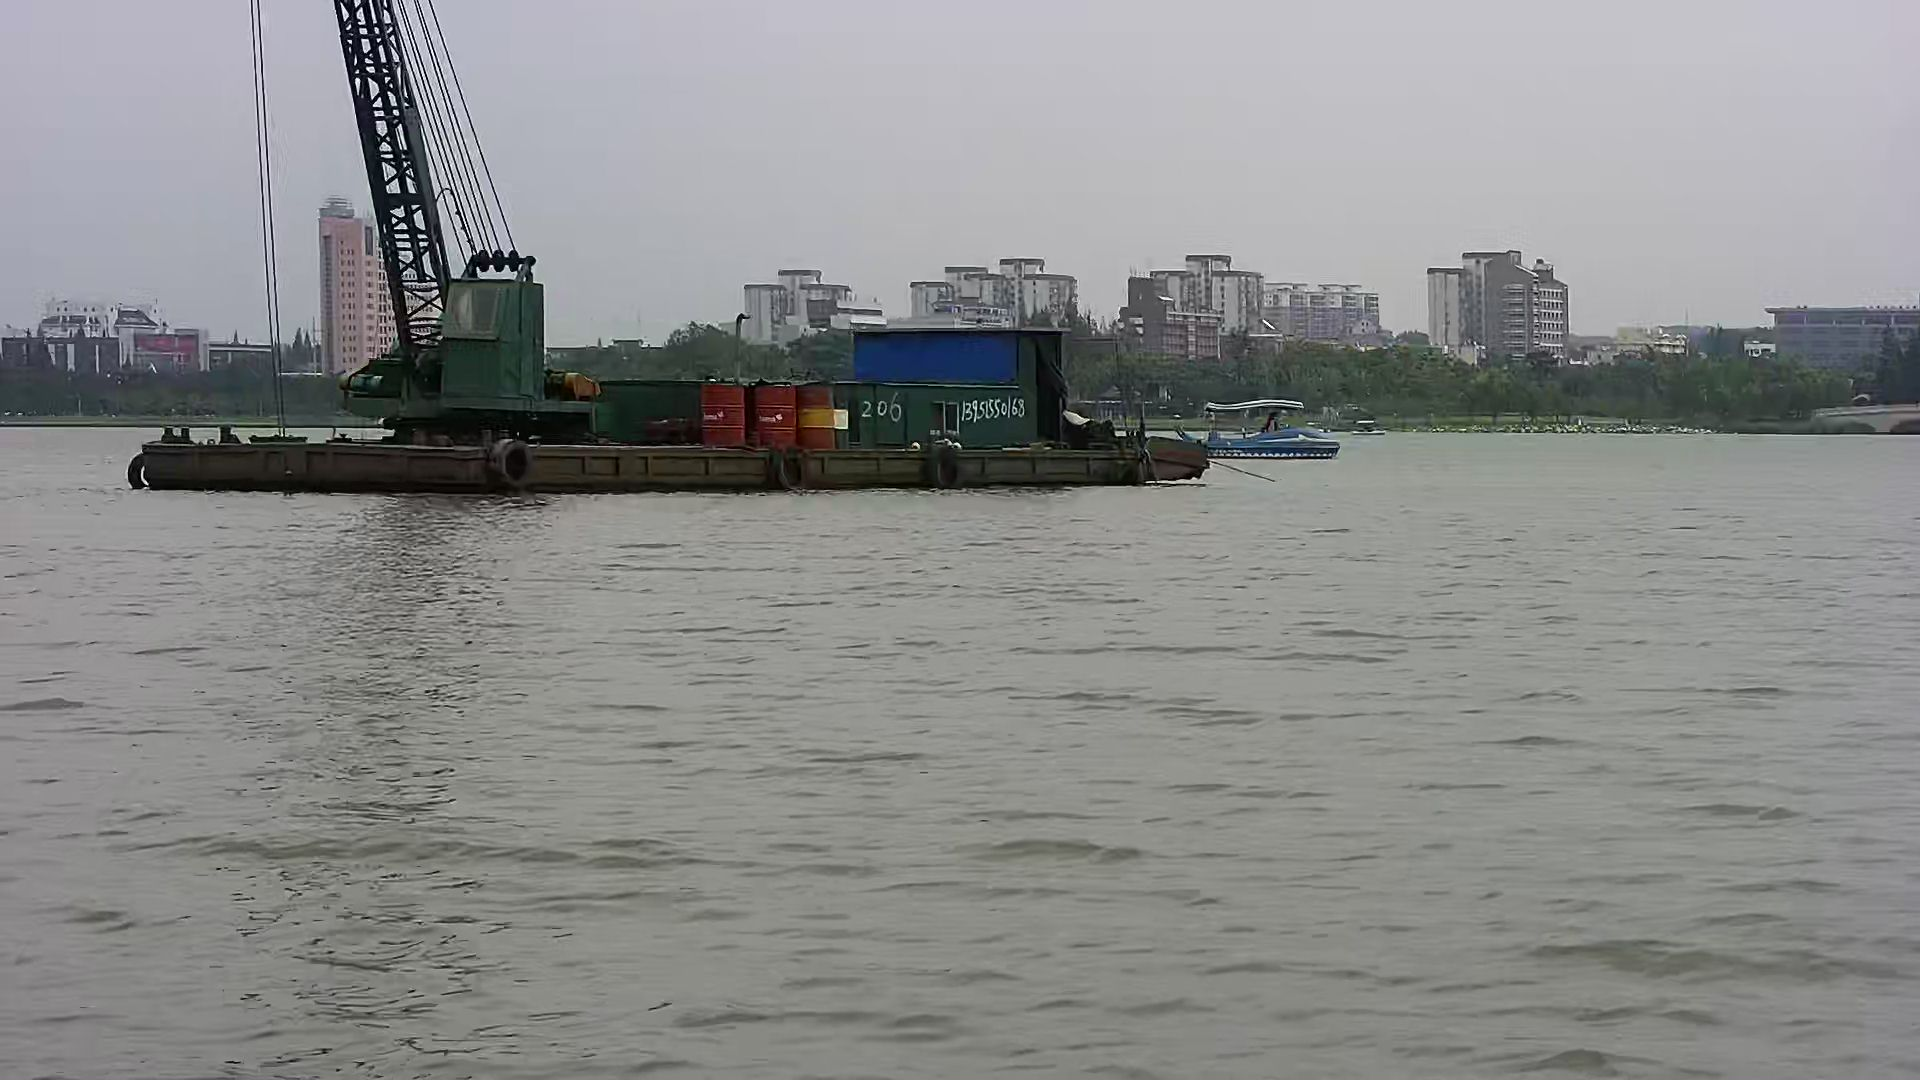boat: (1184, 396, 1344, 458)
harbor: (138, 247, 1209, 493)
